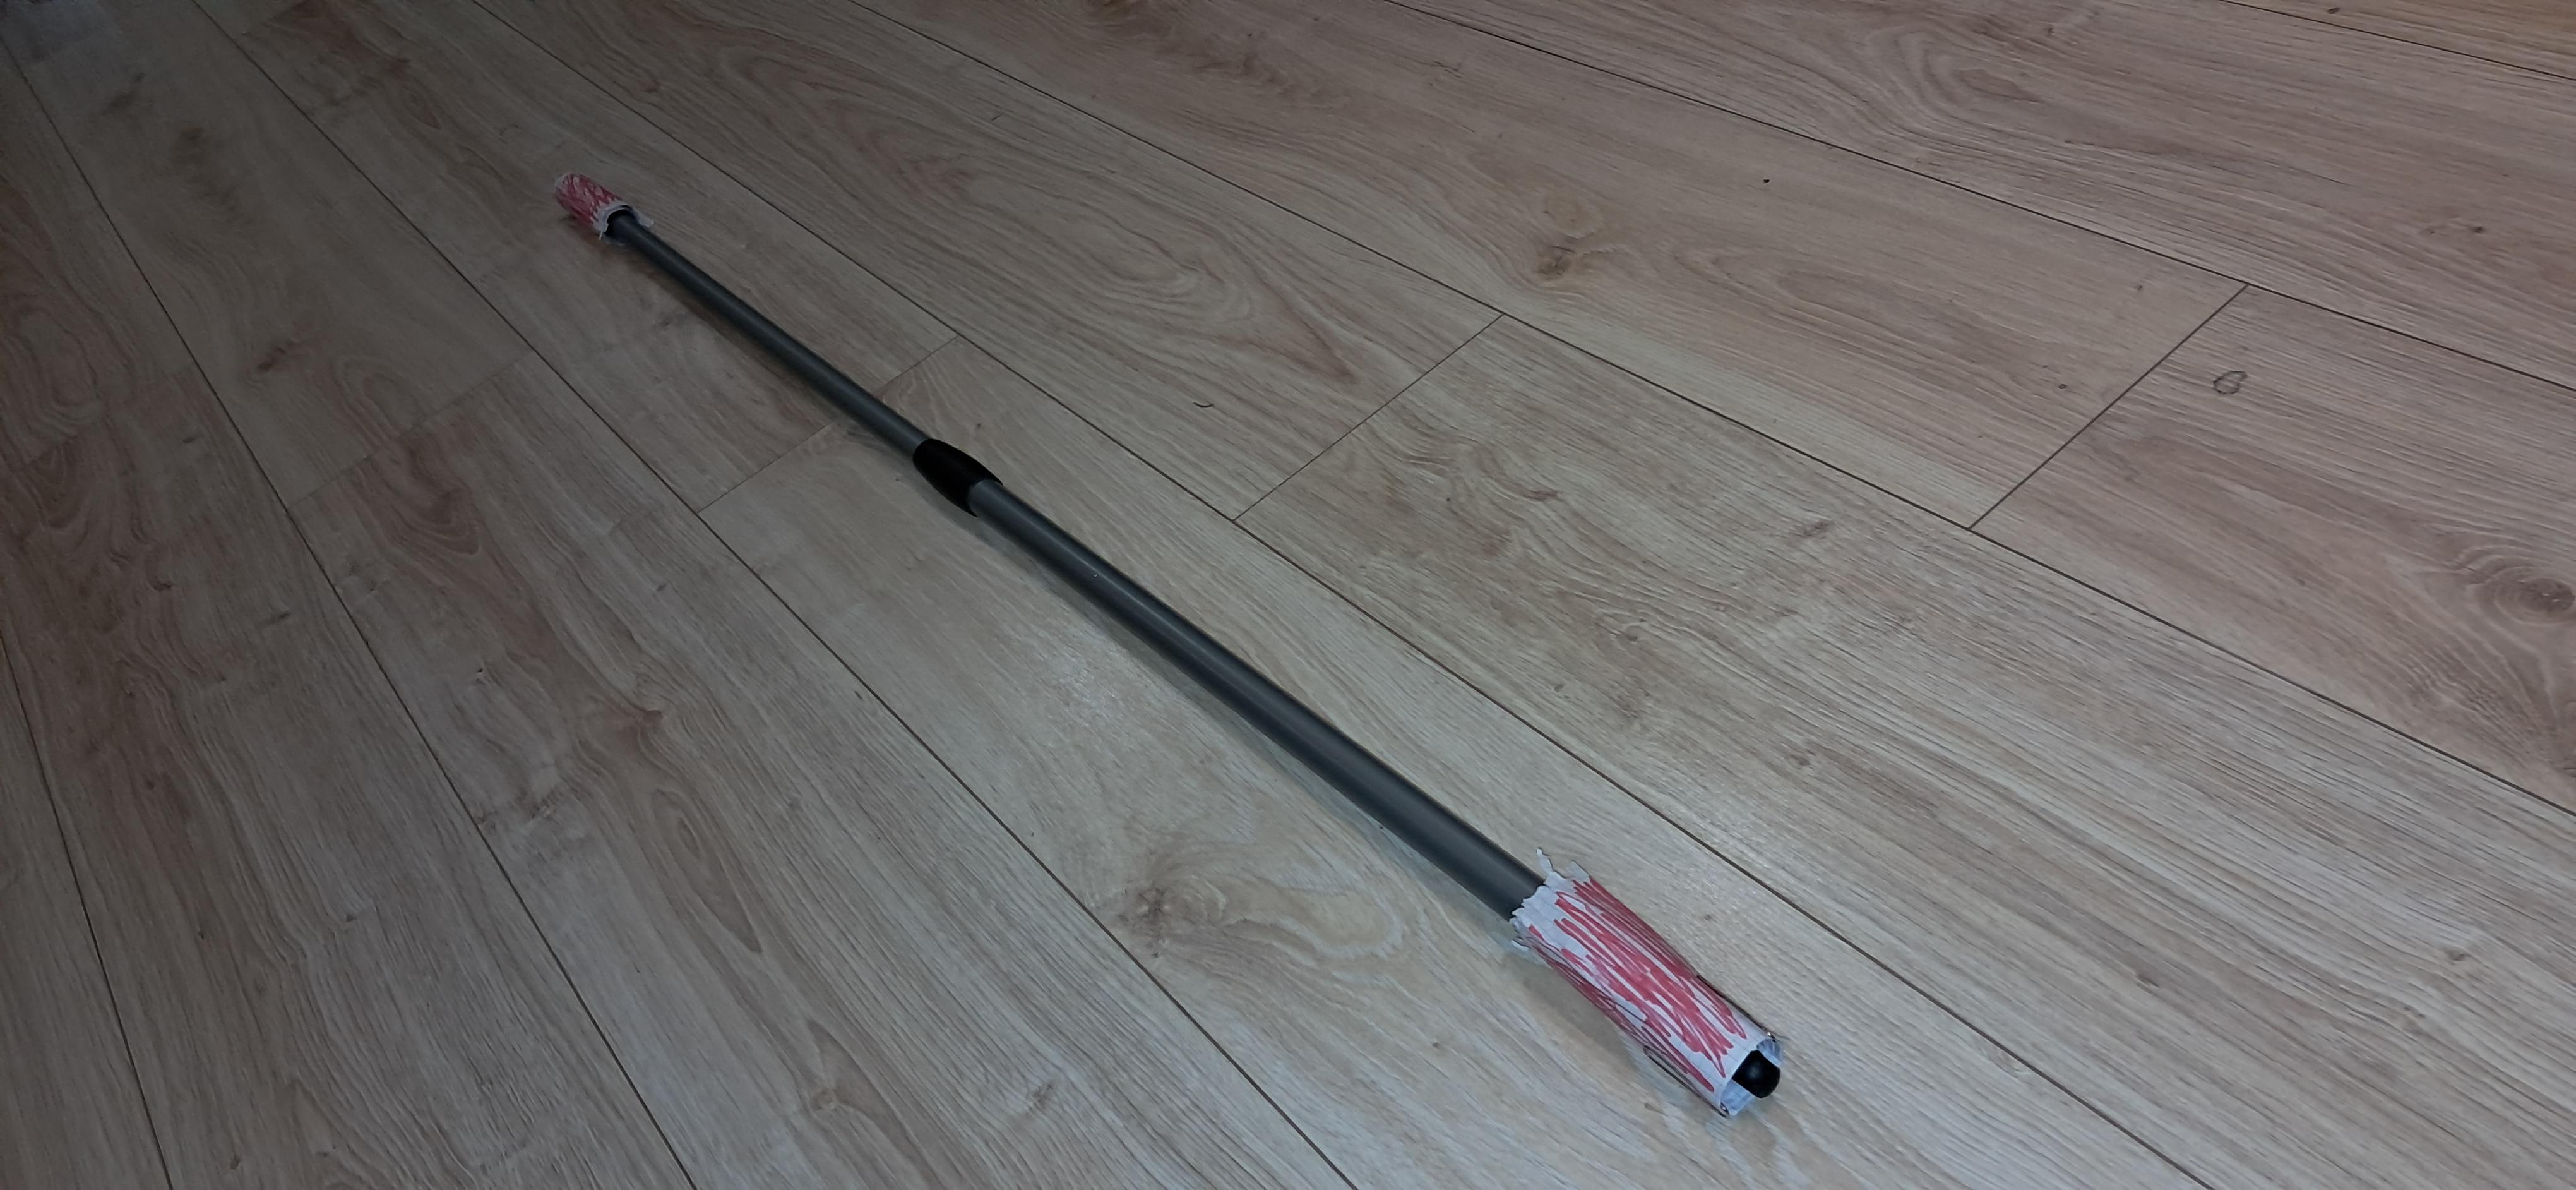broom-handle: (555, 174, 1779, 1114)
